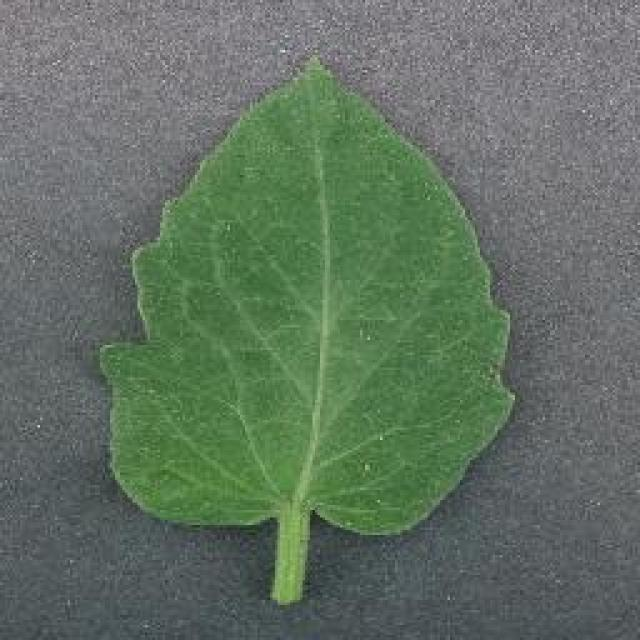Tomato___healthy: (93, 49, 518, 605)
